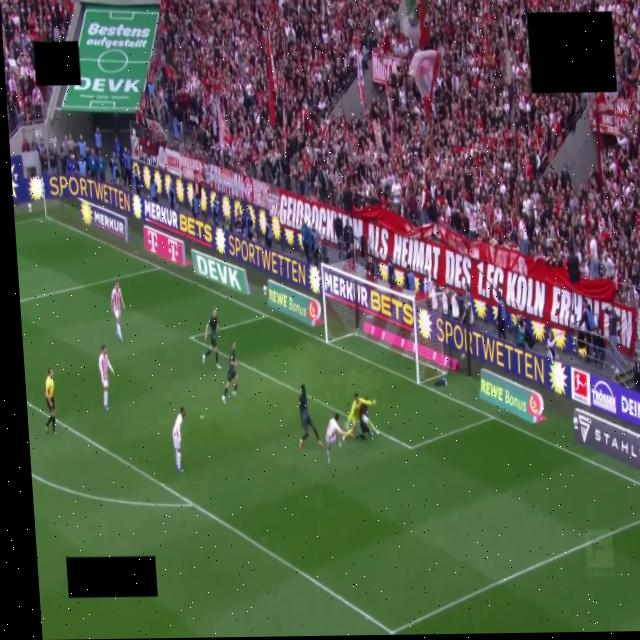player: (299, 385, 323, 448), (343, 393, 375, 439), (97, 344, 117, 410), (203, 308, 221, 369), (326, 412, 346, 463), (222, 341, 238, 403), (111, 281, 125, 341), (173, 407, 185, 472), (359, 398, 378, 439)
referee: (45, 368, 56, 435)
